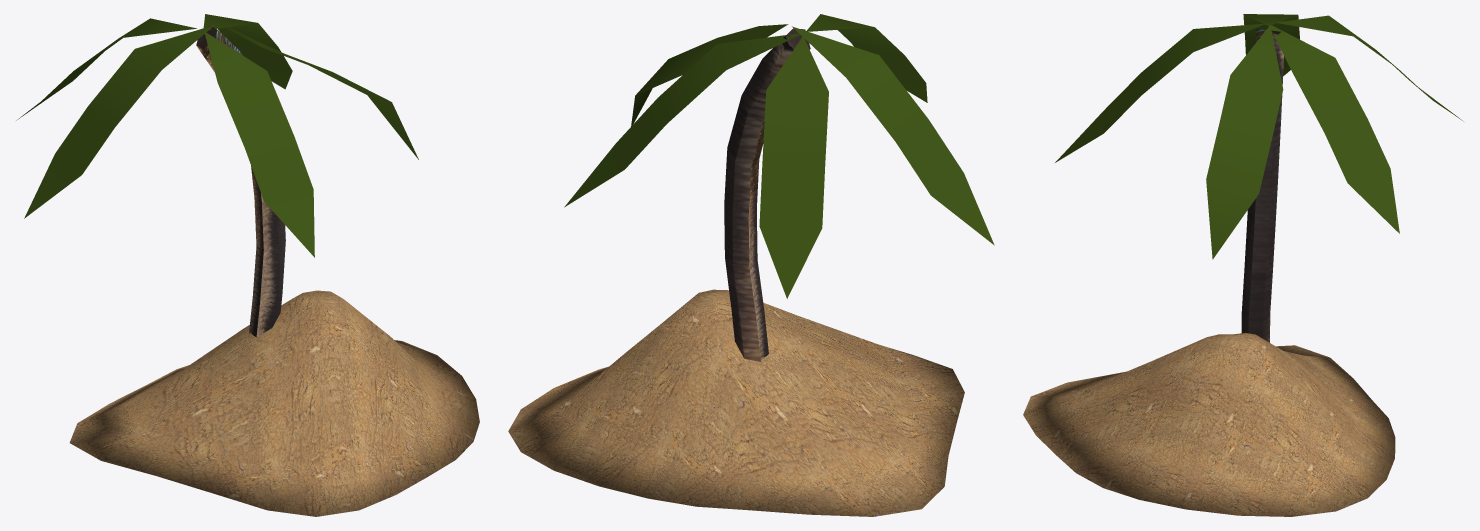
The model's file is DesertIsland.fbx.
The picture shows the model from 3 angles, left to right: view 1: azimuth 30°, elevation 25°; view 2: azimuth 150°, elevation 25°; view 3: azimuth 270°, elevation 25°; orthographic projection. The views are drawn at different scales.
Visible parts, largest first — view 1: Desert Island, Palm leaves, Palm Tree; view 2: Desert Island, Palm leaves, Palm Tree; view 3: Desert Island, Palm leaves, Palm Tree.
Part boxes in pixels (x1,y1,x2,y2): Desert Island: (69,290,479,516); Palm leaves: (16,14,418,257); Palm Tree: (196,26,285,337); Desert Island: (508,289,964,516); Palm leaves: (564,14,994,298); Palm Tree: (724,28,810,361); Desert Island: (1023,333,1395,516); Palm leaves: (1055,14,1463,259); Palm Tree: (1241,29,1283,342).
Size of the model in its own units: 80.68 by 72.82 by 76.31.
